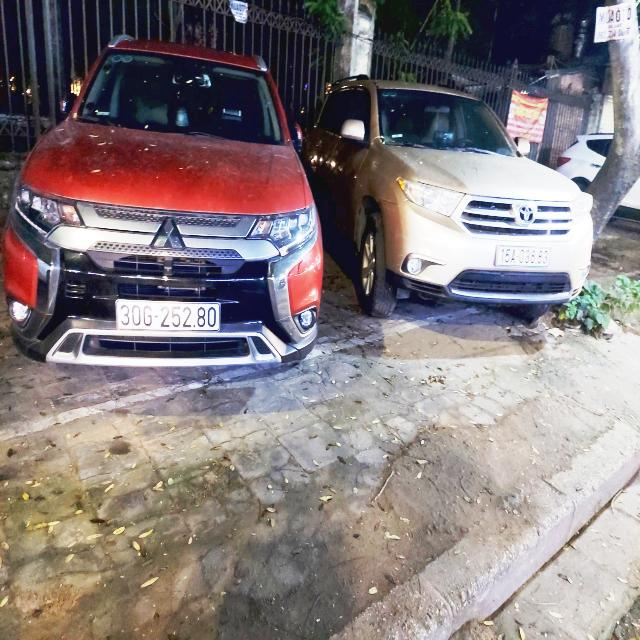license_plate: (117, 296, 223, 335), (495, 245, 555, 270)
